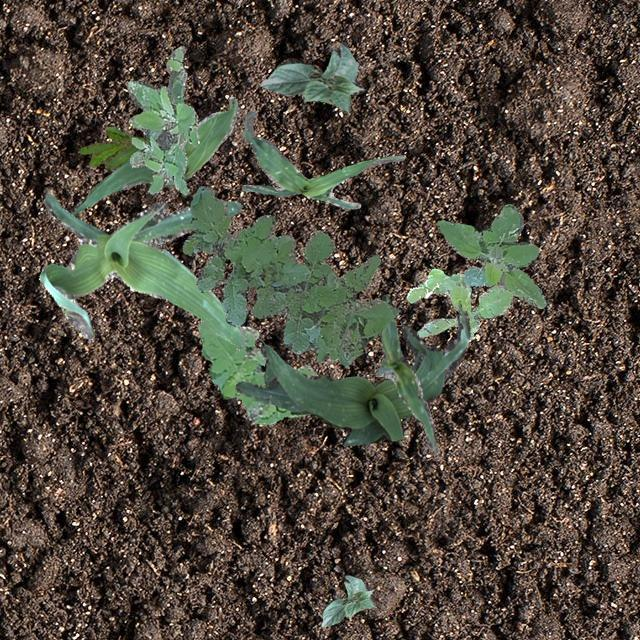crop: (235, 302, 470, 444), (38, 192, 246, 348), (68, 96, 236, 216), (241, 110, 404, 208), (374, 294, 436, 451), (260, 42, 364, 114), (321, 574, 375, 626)
weed: (182, 184, 398, 364), (196, 318, 314, 424), (436, 202, 544, 308), (124, 44, 198, 194), (406, 268, 512, 340), (78, 125, 150, 168)
